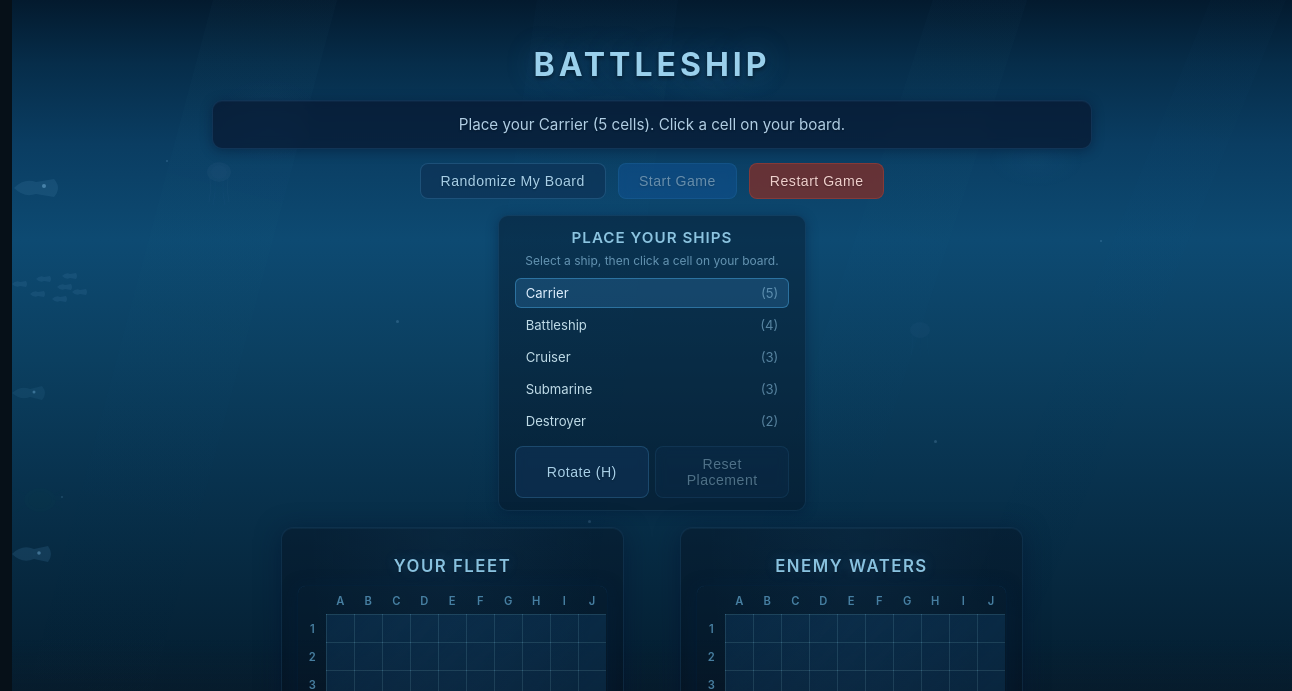
Test: App integration › randomize and start › start game shows playing status text
Click the button "Randomize My Board": [513, 181] box x1=420 y1=163 x2=606 y2=199
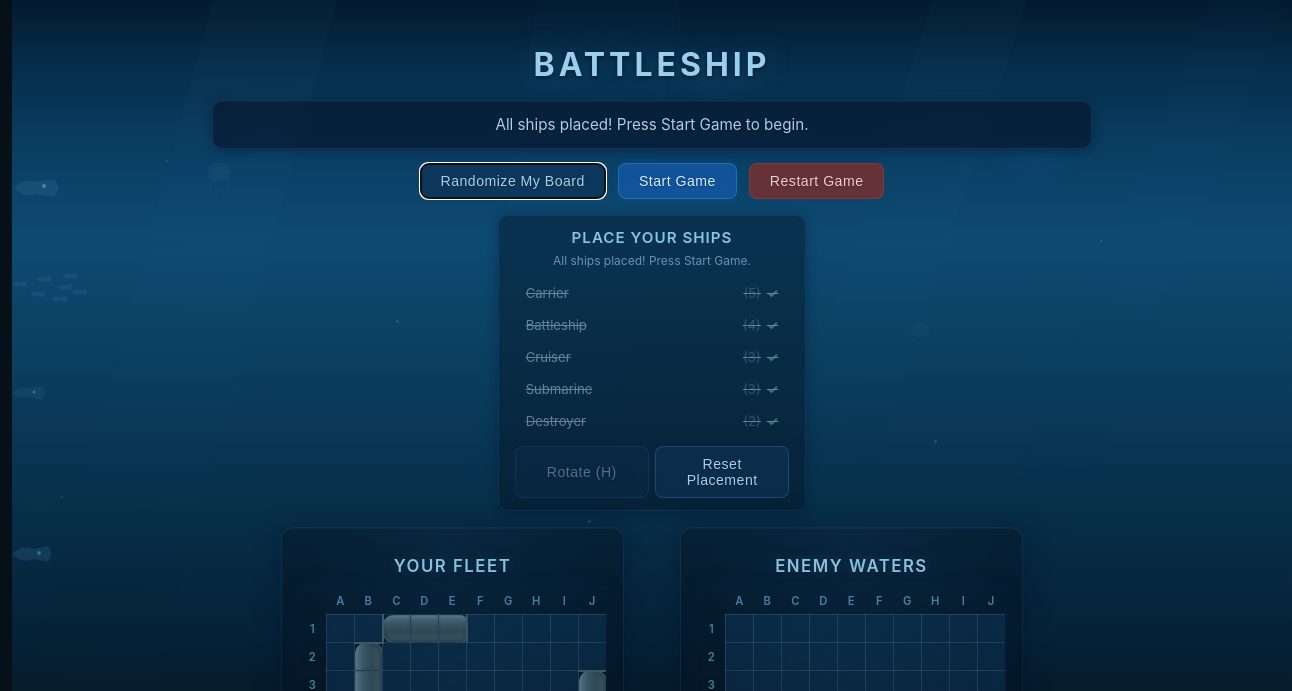
Click the button "Start Game": [677, 181] box x1=618 y1=163 x2=737 y2=199
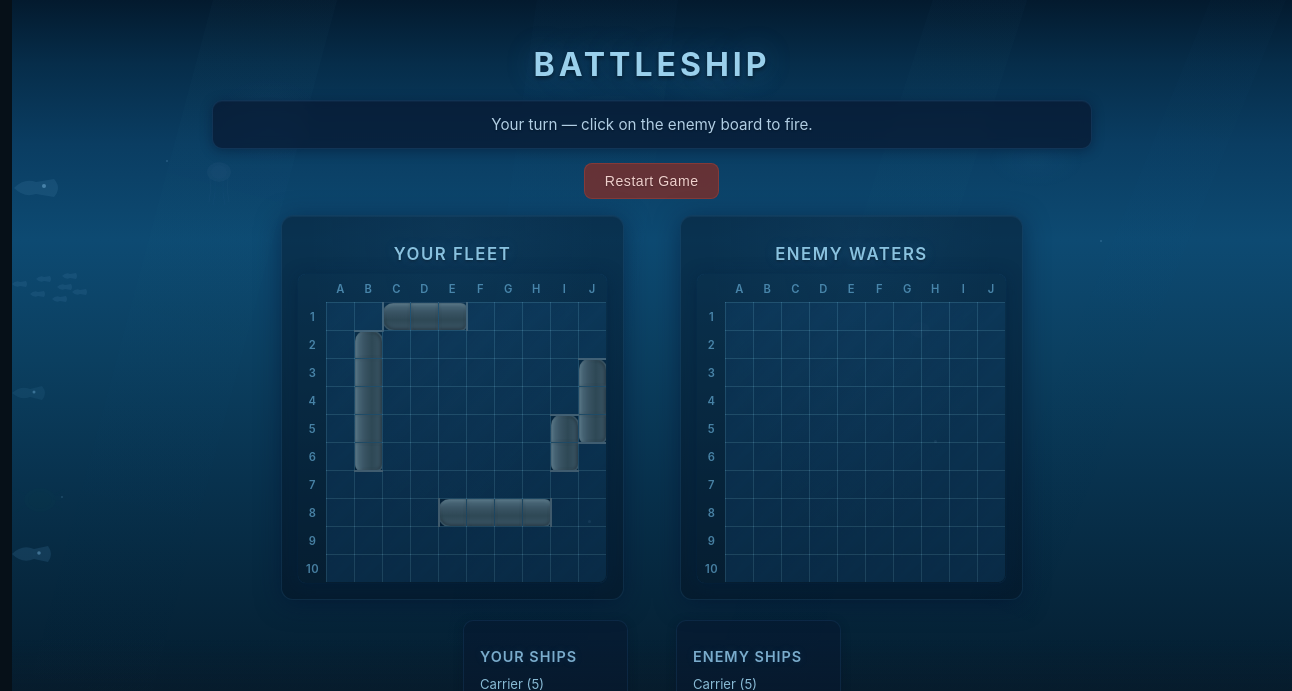
Now the text "Your turn — click on the enemy board to fire." is shown, box x1=491 y1=115 x2=813 y2=134
